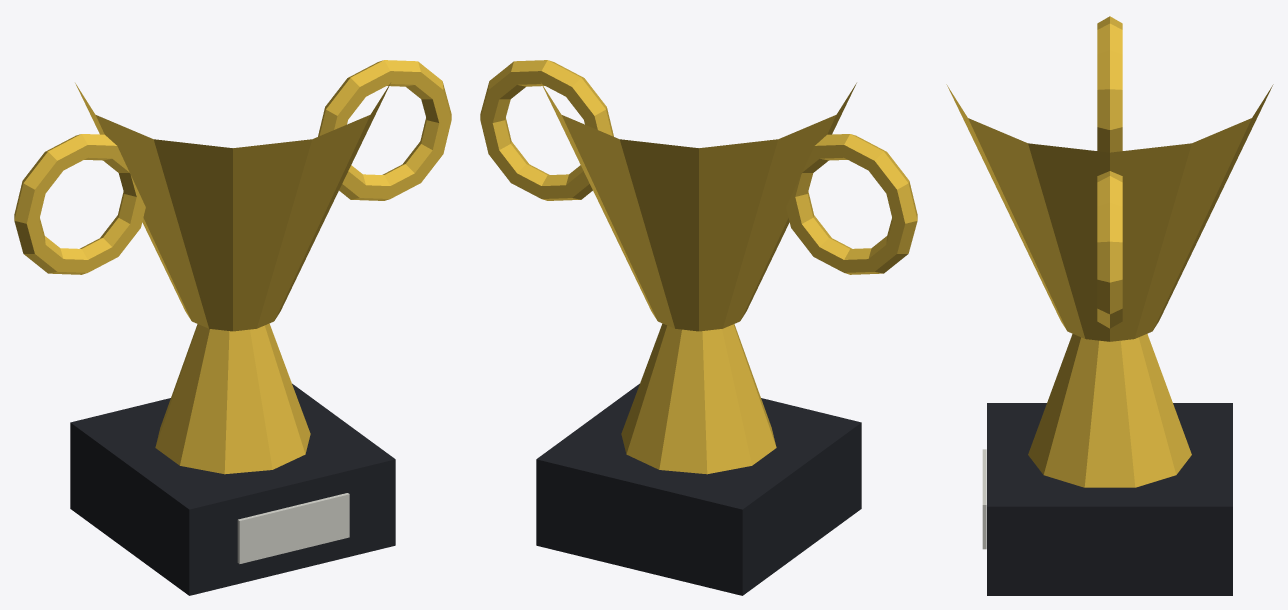
File: football_cup.glb
The picture shows the model from 3 angles, left to right: view 1: azimuth 30°, elevation 25°; view 2: azimuth 150°, elevation 25°; view 3: azimuth 270°, elevation 25°; orthographic projection. The views are drawn at different scales.
Visible parts, largest first — view 1: cup_cup_gold, base_cup_base, handles_cup_gold, base_cup_plate; view 2: cup_cup_gold, base_cup_base, handles_cup_gold; view 3: cup_cup_gold, base_cup_base, handles_cup_gold, base_cup_plate.
Boxes of the visible parts, box(x1,y1,x2,y2) form: cup_cup_gold: box(75, 83, 390, 474); base_cup_base: box(70, 383, 395, 595); handles_cup_gold: box(14, 60, 451, 274); base_cup_plate: box(237, 493, 349, 563); cup_cup_gold: box(541, 83, 856, 474); base_cup_base: box(536, 383, 861, 595); handles_cup_gold: box(480, 60, 917, 274); cup_cup_gold: box(946, 84, 1273, 487); base_cup_base: box(987, 403, 1232, 595); handles_cup_gold: box(1097, 16, 1122, 328); base_cup_plate: box(982, 449, 986, 549).
Size of the model in its own units: 0.636 by 0.62 by 0.4.
